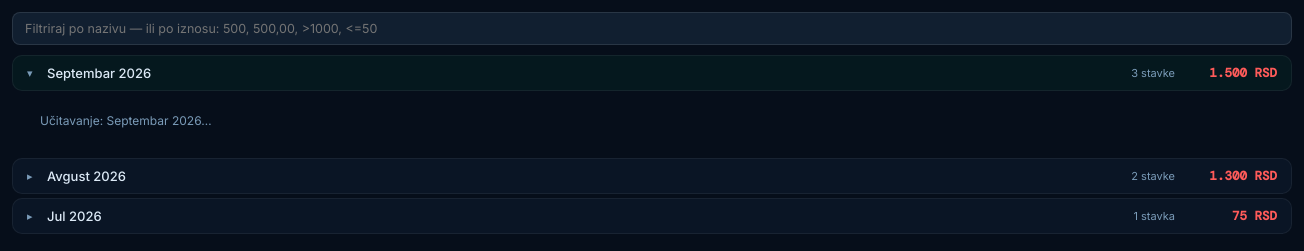
it: filtering a drill-down › honours a comparison
Replace the text in the field named "Filtriraj ove transakcije" with ">=1000" at (652, 28), box [12, 12, 1292, 45]
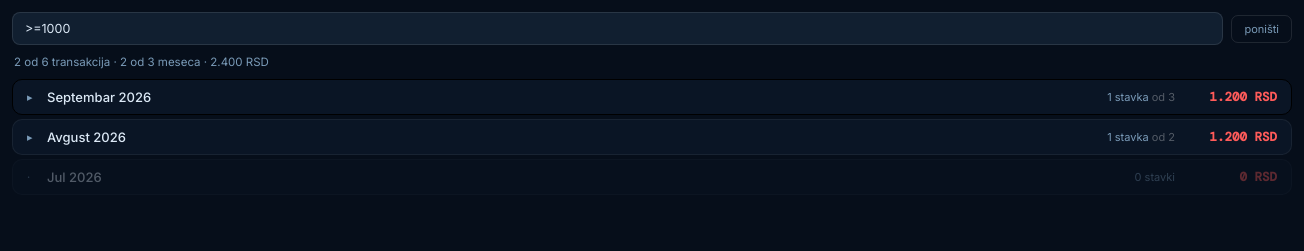
Check: the text "2 od 6 transakcija · 2 od 3 meseca · 2.400 RSD" is shown, box [14, 55, 269, 69]
Check: the button "· Jul 2026 0 stavki 0 RSD" is shown, box [12, 159, 1292, 195]
